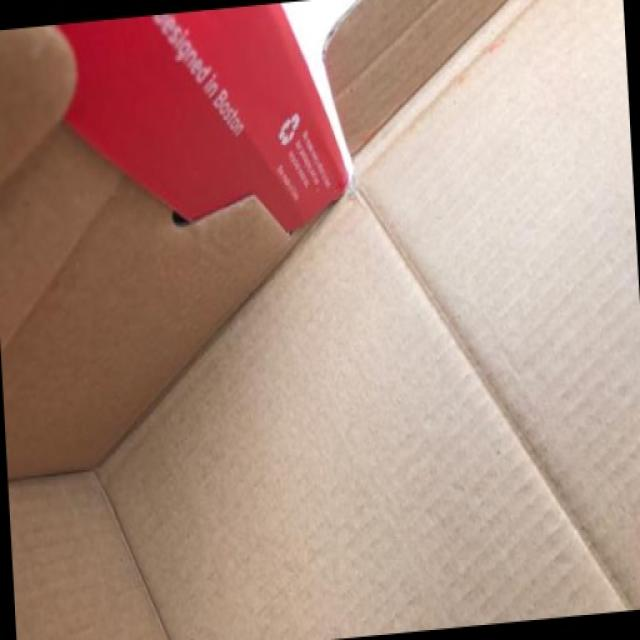carton: (14, 15, 576, 539)
